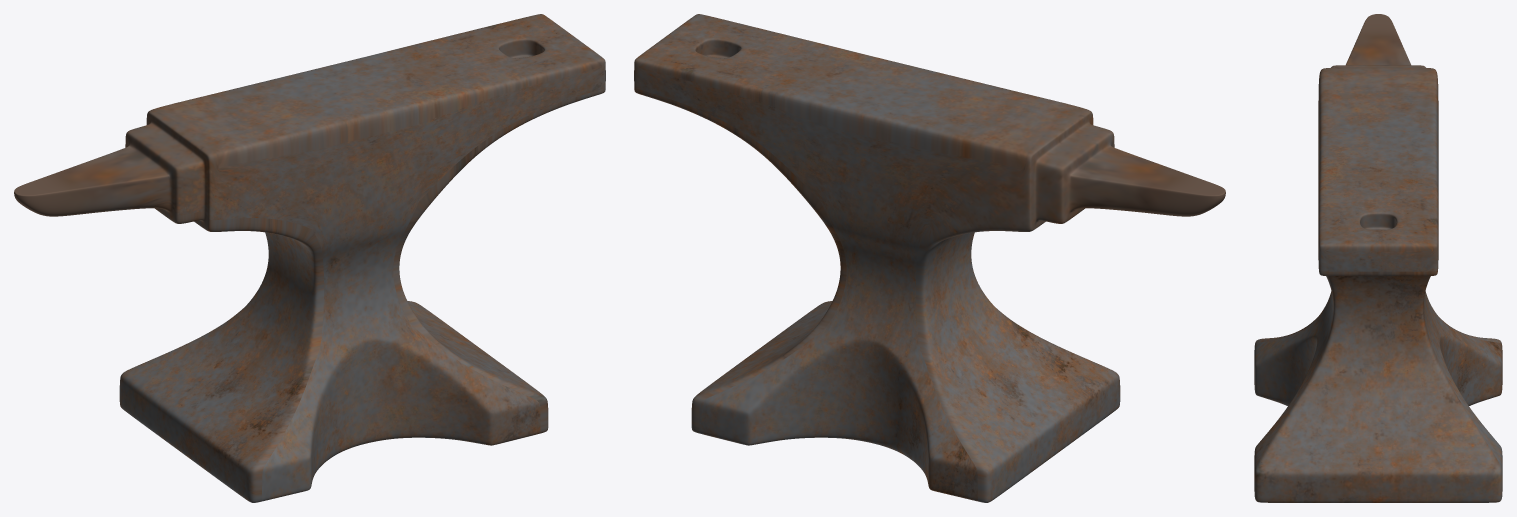
File: 003_anvil.glb
3 renders of one model, left to right at view 1: azimuth 30°, elevation 25°; view 2: azimuth 150°, elevation 25°; view 3: azimuth 270°, elevation 25°, orthographic. The views are drawn at different scales.
Visible parts, largest first — view 1: Low; view 2: Low; view 3: Low.
Part boxes in pixels (x1,y1,x2,y2): Low: (14,14,605,502); Low: (634,14,1225,502); Low: (1254,14,1502,502).
Size of the model in its own units: 478 by 267 by 200.
Materials: 1 (1 with a texture image).
